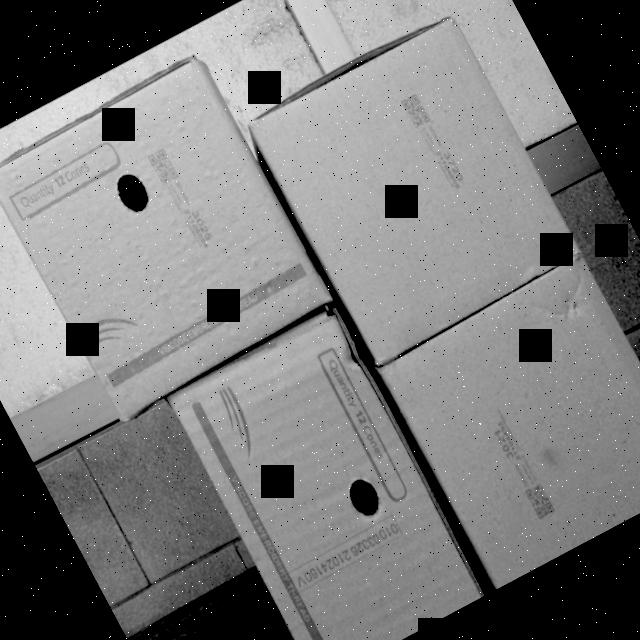box: (0, 45, 334, 421), (242, 13, 580, 370), (165, 312, 486, 640), (372, 250, 640, 589)
